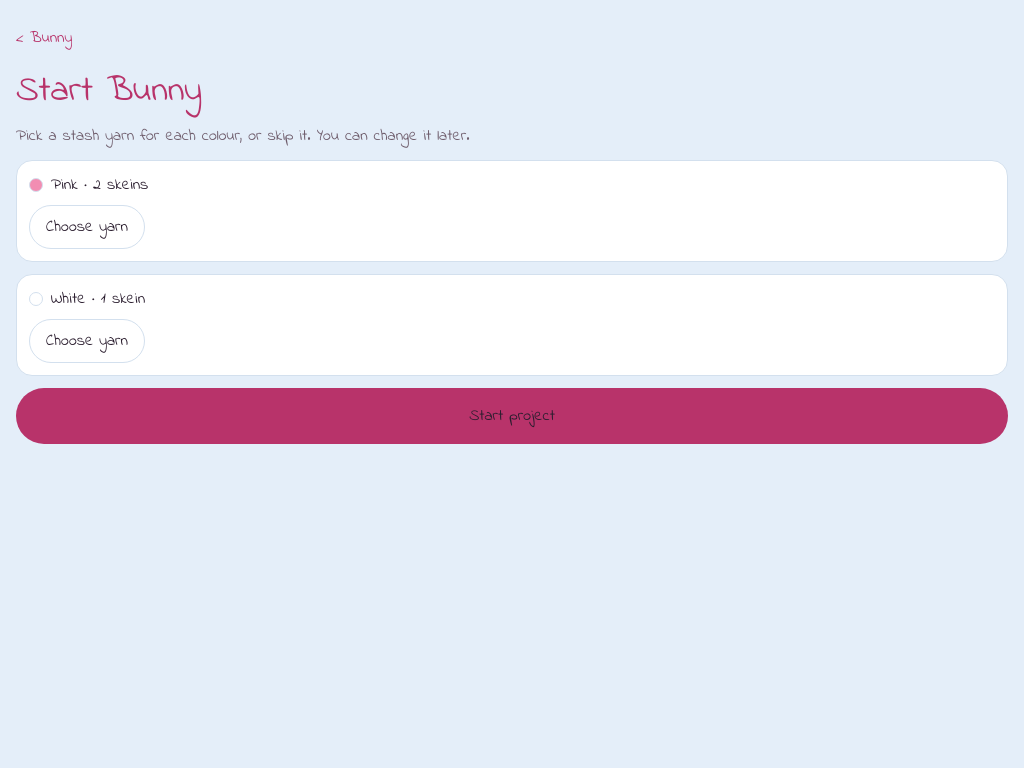
Test: a picked yarn can be skipped again
This screenshot has width=1024, height=768.
Click the button with aria-label "Choose yarn for Pink": [87, 227] box [29,205,145,249]
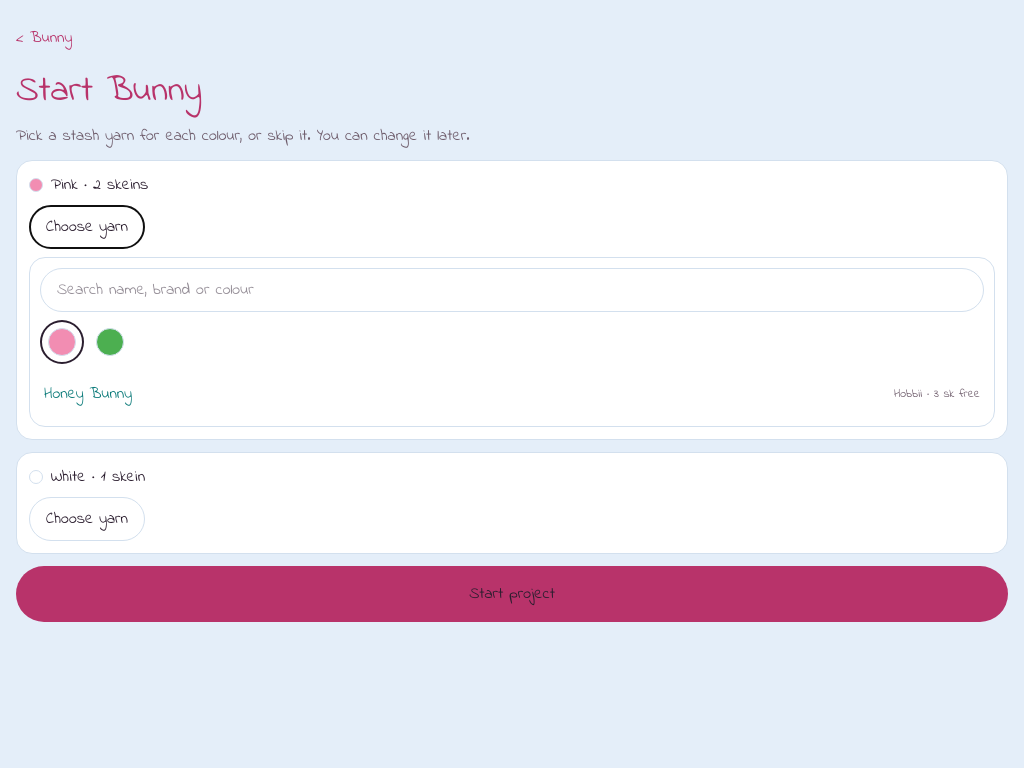
Click the button "Honey Bunny Hobbii · 3 sk free": [88, 394] box [40,372,984,416]
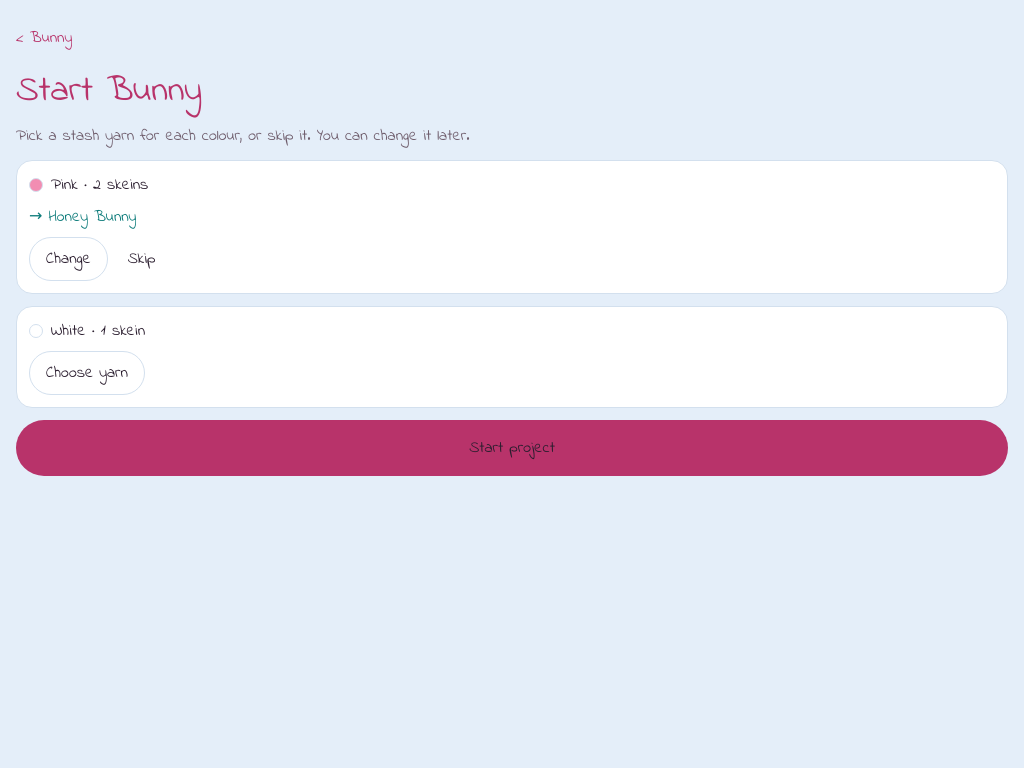
Click the button with aria-label "Skip Pink": [142, 259] box [116,237,167,281]
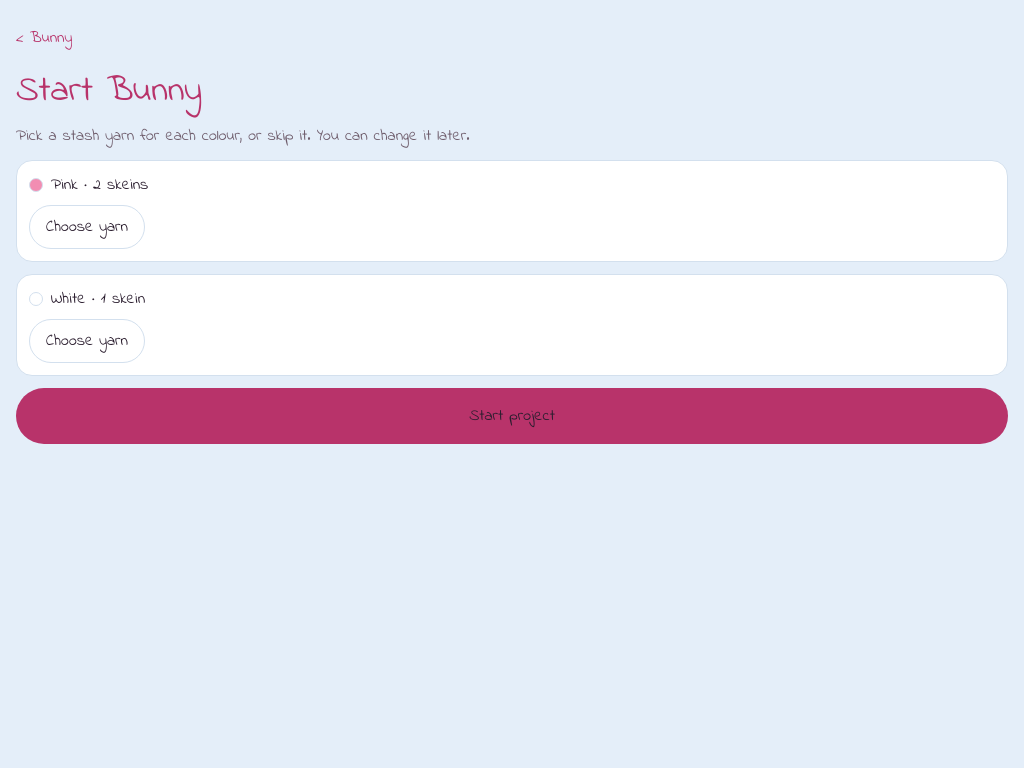
Check: the button with aria-label "Choose yarn for Pink" is shown, box [29,205,145,249]
